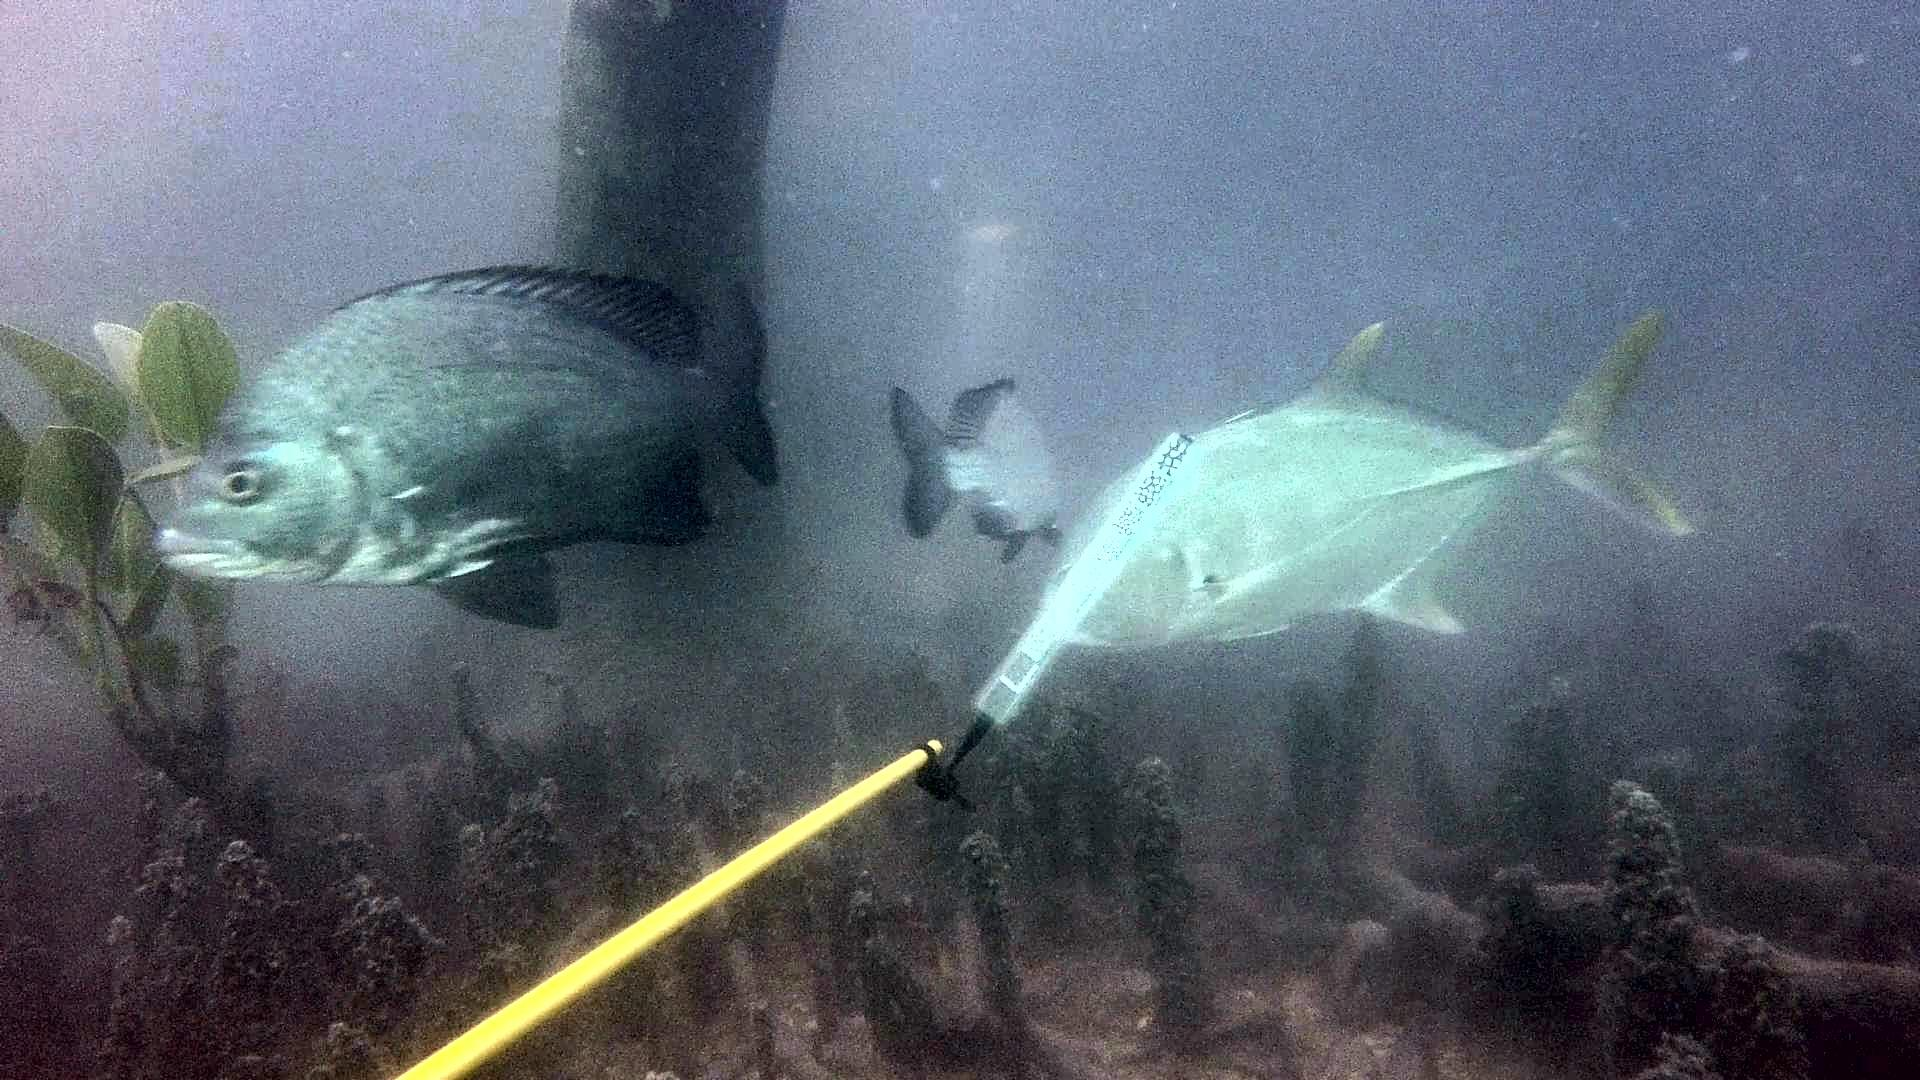acanthopagrus palmaris: (141, 245, 806, 641), (873, 365, 1077, 576)
caranx: (1031, 290, 1716, 662)
